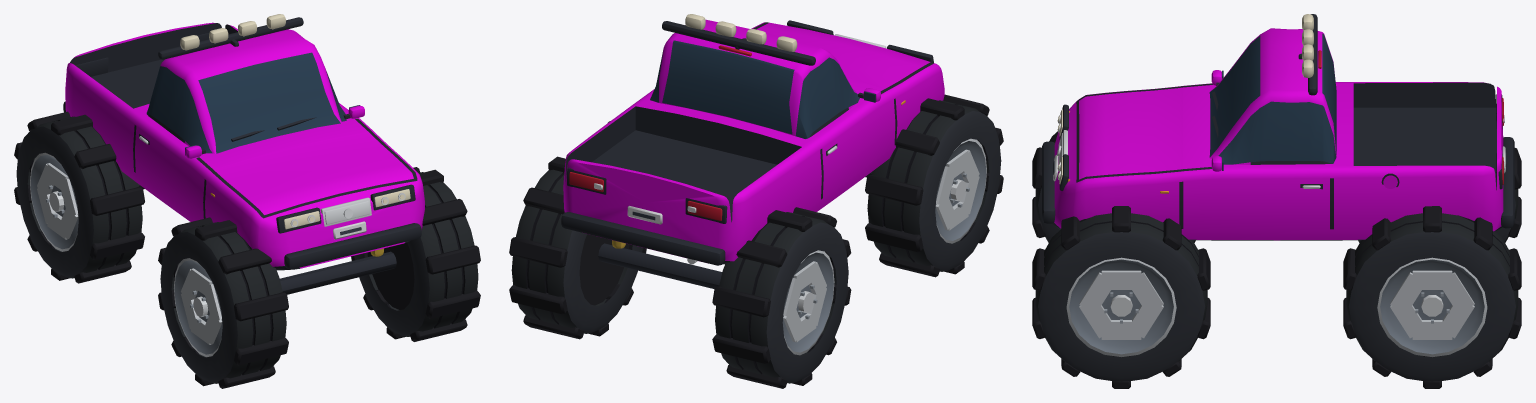
File: cars-monster.glb
3 renders of one model, left to right at view 1: azimuth 30°, elevation 25°; view 2: azimuth 150°, elevation 25°; view 3: azimuth 270°, elevation 25°, orthographic. The views are drawn at different scales.
Visible parts, largest first — view 1: monster_mesh, monster; view 2: monster_mesh, monster; view 3: monster_mesh, monster.
Part boxes in pixels (left/top/right/bottom): monster_mesh: left=63, top=14, right=424, bottom=294; monster: left=14, top=111, right=480, bottom=388; monster_mesh: left=561, top=14, right=944, bottom=288; monster: left=509, top=94, right=1003, bottom=388; monster_mesh: left=1042, top=14, right=1514, bottom=240; monster: left=1032, top=131, right=1521, bottom=388.
Size of the model in its own units: 2.55 by 2.64 by 4.09.
